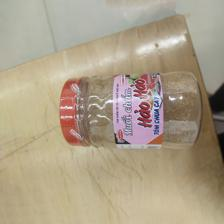Hao_hao: (58, 72, 201, 153)
